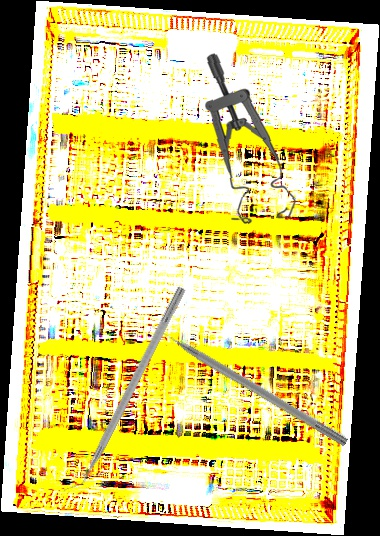Chopper: (60, 279, 187, 500)
Pusher: (146, 317, 350, 448)
Speculum: (197, 52, 304, 228)
